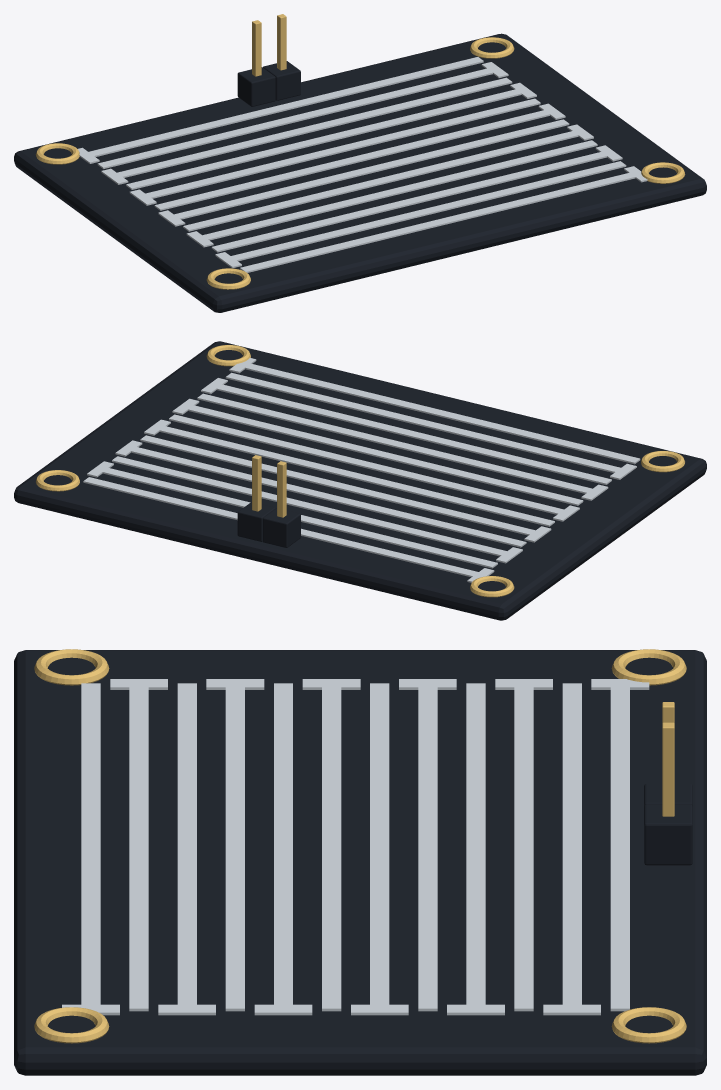
File: rain-sensor.glb
3 views of the same model, one above another, from view 1: azimuth 30°, elevation 25°; view 2: azimuth 150°, elevation 25°; view 3: azimuth 270°, elevation 25° (orthographic). The views are drawn at different scales.
Parts seen in each view (by area): view 1: Static body • black, Static body • silver, Static body • gold; view 2: Static body • black, Static body • silver, Static body • gold; view 3: Static body • black, Static body • silver, Static body • gold.
Boxes of the visible parts, x1=… form: Static body • black: x1=14, y1=33, x2=706, y2=312; Static body • silver: x1=78, y1=57, x2=647, y2=272; Static body • gold: x1=35, y1=14, x2=685, y2=289; Static body • black: x1=14, y1=341, x2=706, y2=620; Static body • silver: x1=83, y1=358, x2=640, y2=582; Static body • gold: x1=36, y1=345, x2=684, y2=597; Static body • black: x1=14, y1=650, x2=706, y2=1075; Static body • silver: x1=62, y1=679, x2=649, y2=1015; Static body • gold: x1=34, y1=649, x2=686, y2=1043.
Size of the model in its own units: 50 by 9.3 by 36.
